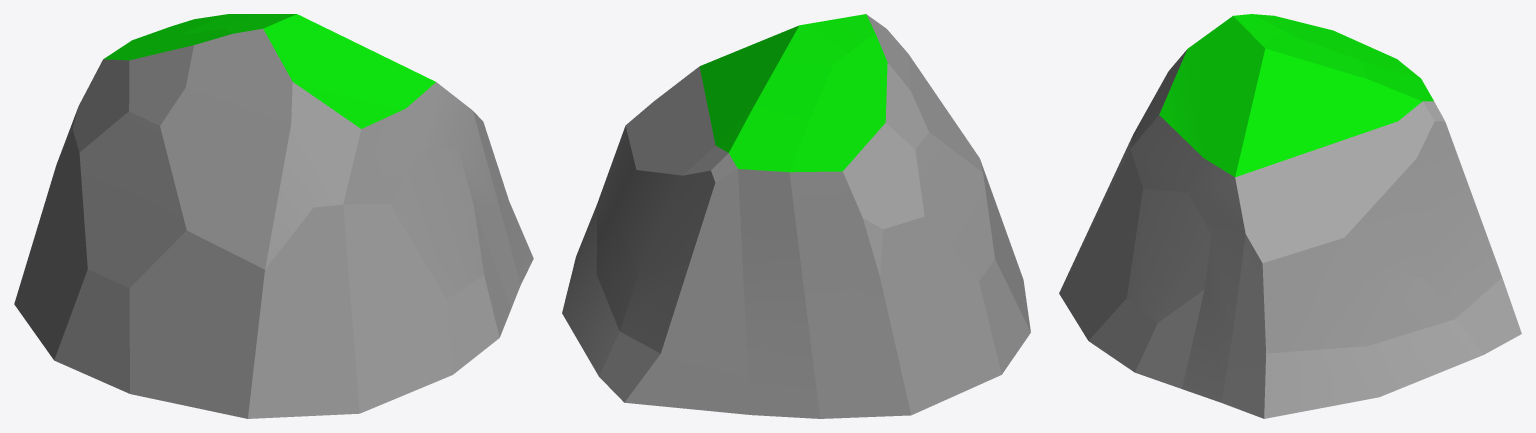
The model's file is rock_jungle_medium_A.fbx.
3 views of the same model, side by side, from view 1: azimuth 30°, elevation 25°; view 2: azimuth 150°, elevation 25°; view 3: azimuth 270°, elevation 25° (orthographic). The views are drawn at different scales.
Parts seen in each view (by area): view 1: rock_jungle_medium_A; view 2: rock_jungle_medium_A; view 3: rock_jungle_medium_A.
Boxes of the visible parts, bbox=[...] form: rock_jungle_medium_A: bbox=[14, 14, 533, 418]; rock_jungle_medium_A: bbox=[562, 14, 1030, 418]; rock_jungle_medium_A: bbox=[1059, 14, 1521, 418].
Bounding box in the file's own units: 84.73 × 54.62 × 82.37.
